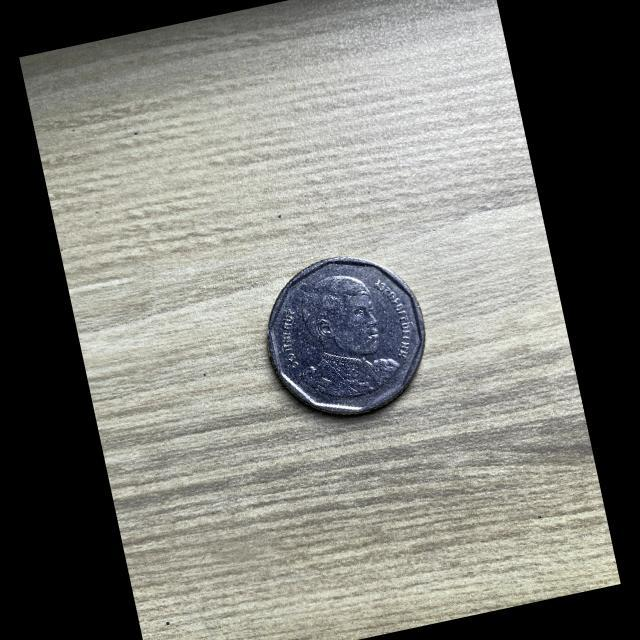5 Bath: (273, 254, 429, 424)
